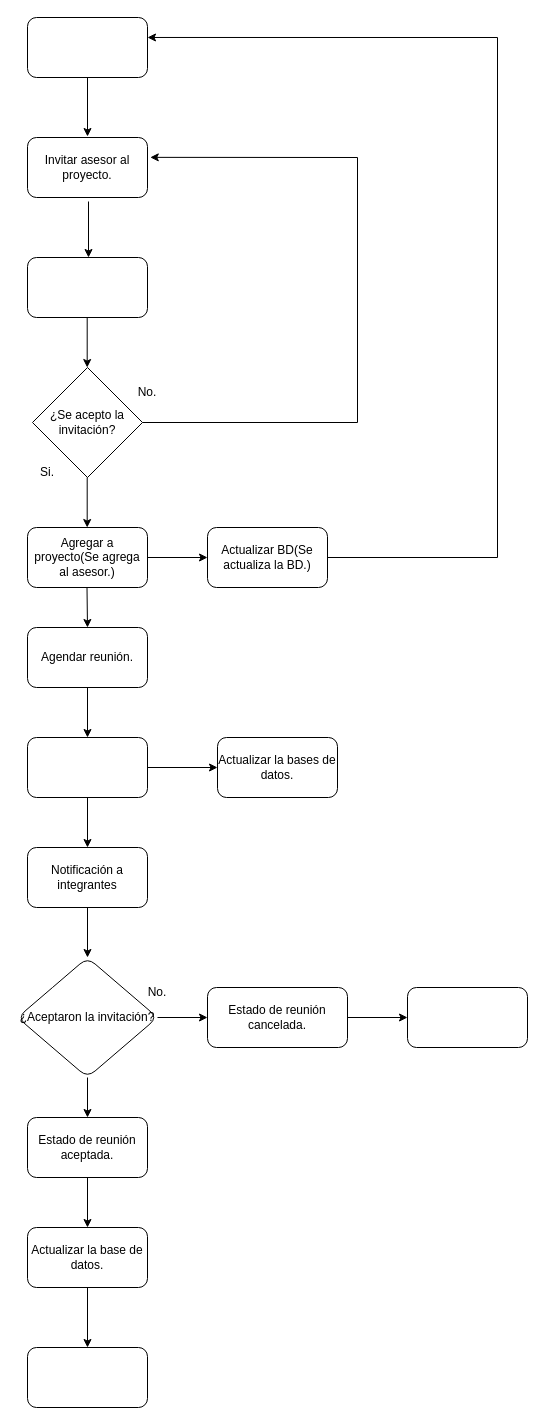
The diagram is 545 pixels wide and 1425 high, and some of its shapes have lost their labels. The shapes that lost their labels are listed below. From the top down, each one's centre as x and y in pixels, then its label:
At (87,47): "Inicio.".
At (87,287): "Notificación (La que recibe el asesor.)".
At (87,767): "Crear reunión.".
At (467,1017): "Actualizar base de datos.".
At (87,1377): "Fin.".
